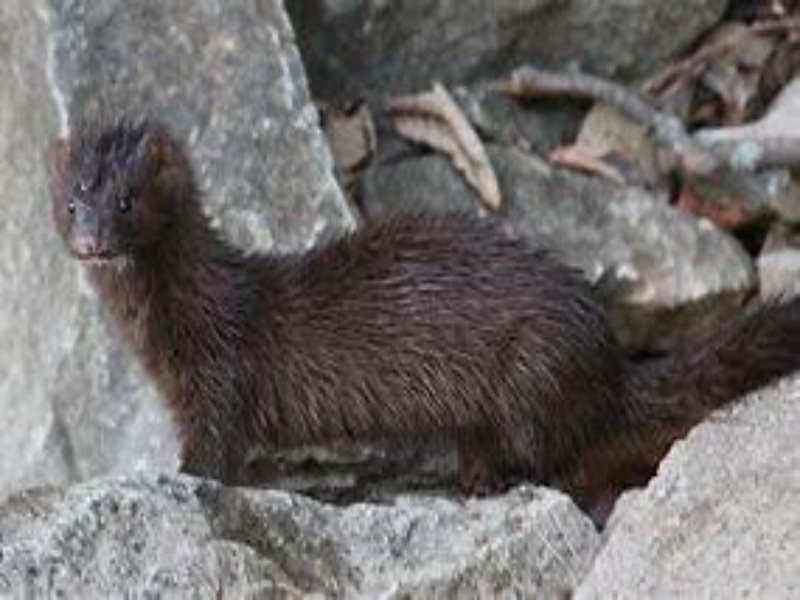minkish: (44, 120, 795, 503)
